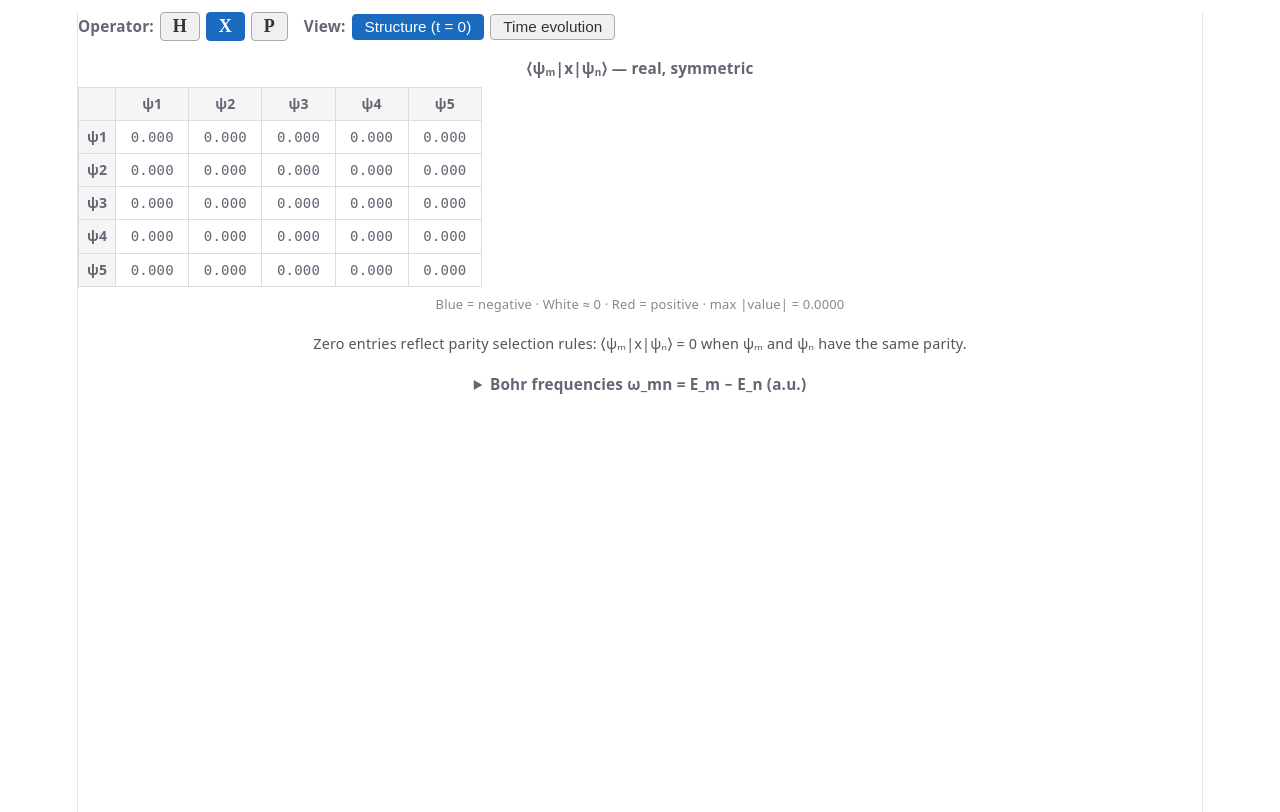
Test case: MatrixPanel › clicking P button shows P matrix title
What coordinates should you click on to do the following:
click the button "P"
I would click on:
 (269, 26)
Its box is [251,12,288,41].
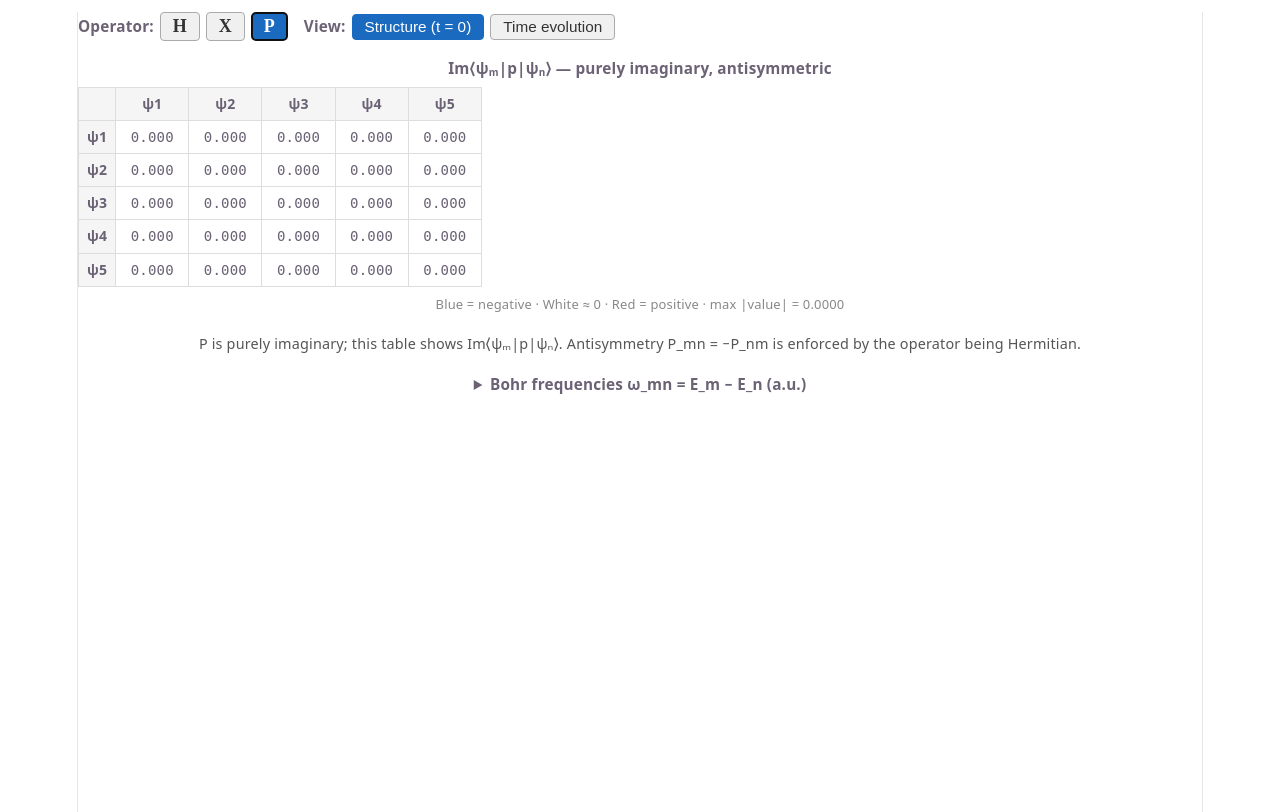
Expected: the text "Im⟨ψₘ|p|ψₙ⟩ — purely imaginary, antisymmetric" is shown, [448,58,832,78]
